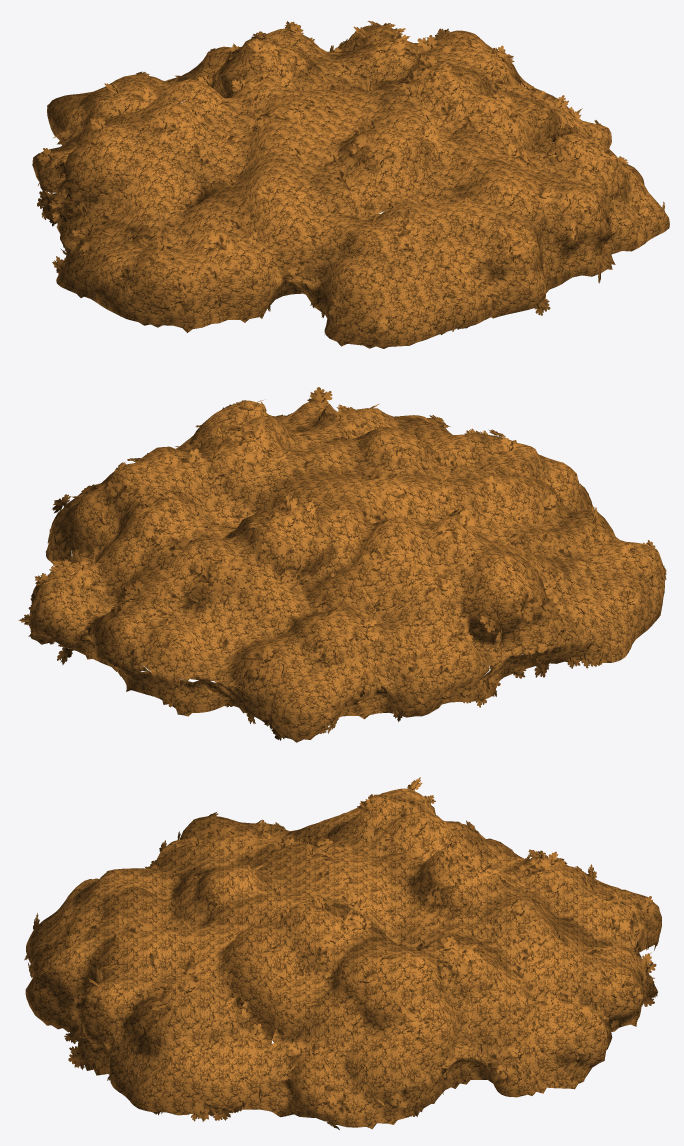
Rendered from leafpile1.gltf.
3 renders of one model, top to bottom at view 1: azimuth 30°, elevation 25°; view 2: azimuth 150°, elevation 25°; view 3: azimuth 270°, elevation 25°, orthographic.
Parts seen in each view (by area): view 1: leafpile1_mass_LOD0, leafpile1_leaves_LOD0; view 2: leafpile1_mass_LOD0, leafpile1_leaves_LOD0; view 3: leafpile1_mass_LOD0, leafpile1_leaves_LOD0.
Part boxes in pixels (<box>): leafpile1_mass_LOD0: <box>32,25,669,348</box>; leafpile1_leaves_LOD0: <box>37,21,664,343</box>; leafpile1_mass_LOD0: <box>28,400,664,742</box>; leafpile1_leaves_LOD0: <box>18,387,666,740</box>; leafpile1_mass_LOD0: <box>25,788,661,1129</box>; leafpile1_leaves_LOD0: <box>24,777,661,1129</box>.
Size of what is drawn, in the model's own units: 1.8 by 0.5001 by 1.78.
2 materials, 2 textured.
